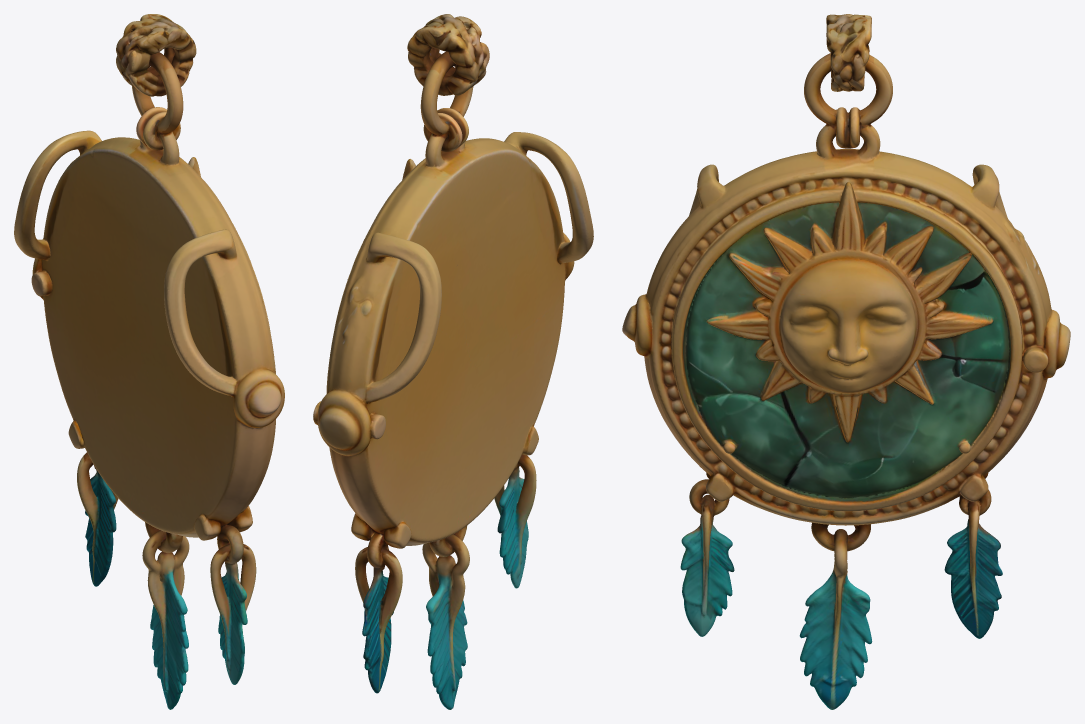
The model's file is jade-amulet.glb.
3 views of the same model, side by side, from view 1: azimuth 30°, elevation 25°; view 2: azimuth 150°, elevation 25°; view 3: azimuth 270°, elevation 25° (orthographic).
Visible parts, largest first — view 1: tripo_node_8df9e0bf-8f52-491b-b1fe-ef2082f5e78e; view 2: tripo_node_8df9e0bf-8f52-491b-b1fe-ef2082f5e78e; view 3: tripo_node_8df9e0bf-8f52-491b-b1fe-ef2082f5e78e.
Boxes of the visible parts, box(x1,y1,x2,y2) form: tripo_node_8df9e0bf-8f52-491b-b1fe-ef2082f5e78e: box(14, 14, 284, 709); tripo_node_8df9e0bf-8f52-491b-b1fe-ef2082f5e78e: box(313, 14, 593, 709); tripo_node_8df9e0bf-8f52-491b-b1fe-ef2082f5e78e: box(622, 14, 1070, 709).
Size of the model in its own units: 0.2167 by 1 by 0.5898.
1 material, 1 textured.
